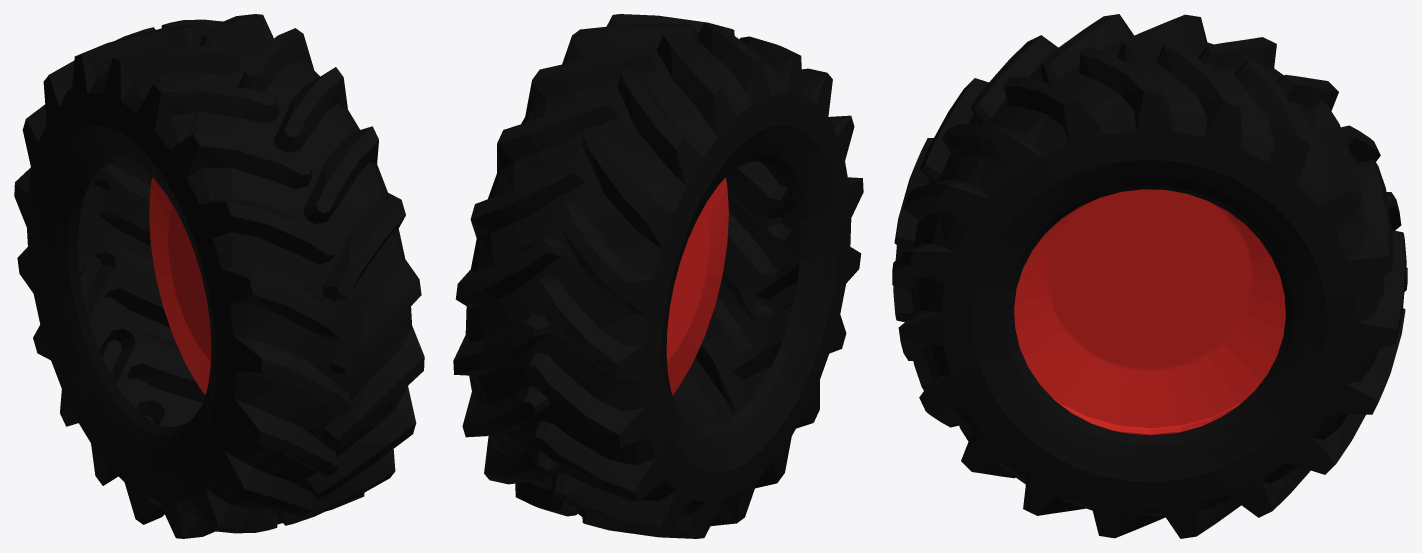
The model's file is front_left_wheel_visuals.obj.
3 views of the same model, side by side, from view 1: azimuth 30°, elevation 25°; view 2: azimuth 150°, elevation 25°; view 3: azimuth 270°, elevation 25° (orthographic).
Parts seen in each view (by area): view 1: front_left_wheel; view 2: front_left_wheel; view 3: front_left_wheel.
Part boxes in pixels (x1,y1,x2,y2): front_left_wheel: [14, 14, 424, 538]; front_left_wheel: [453, 14, 863, 538]; front_left_wheel: [892, 14, 1407, 538].
Size of the model in its own units: 6.17 by 15.1 by 15.1.
